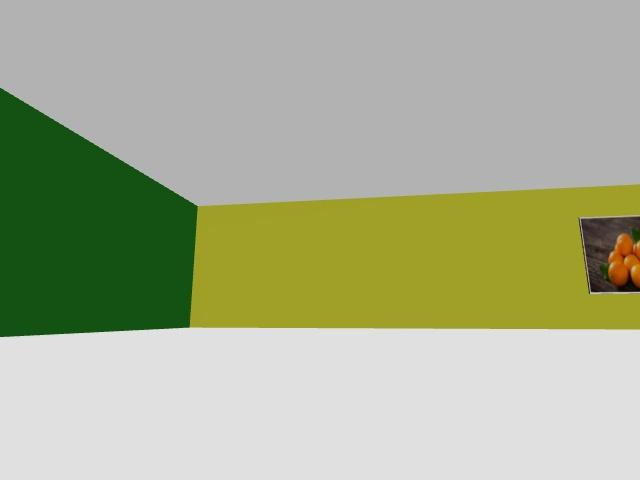orange: (608, 261, 628, 286), (616, 234, 633, 256), (630, 263, 640, 288), (623, 254, 639, 269), (608, 250, 623, 263), (633, 241, 639, 256), (614, 244, 619, 252)
